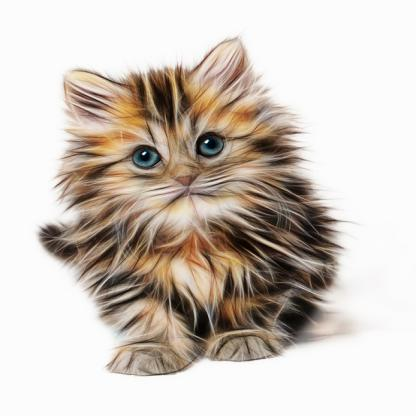cat: (39, 35, 338, 377)
